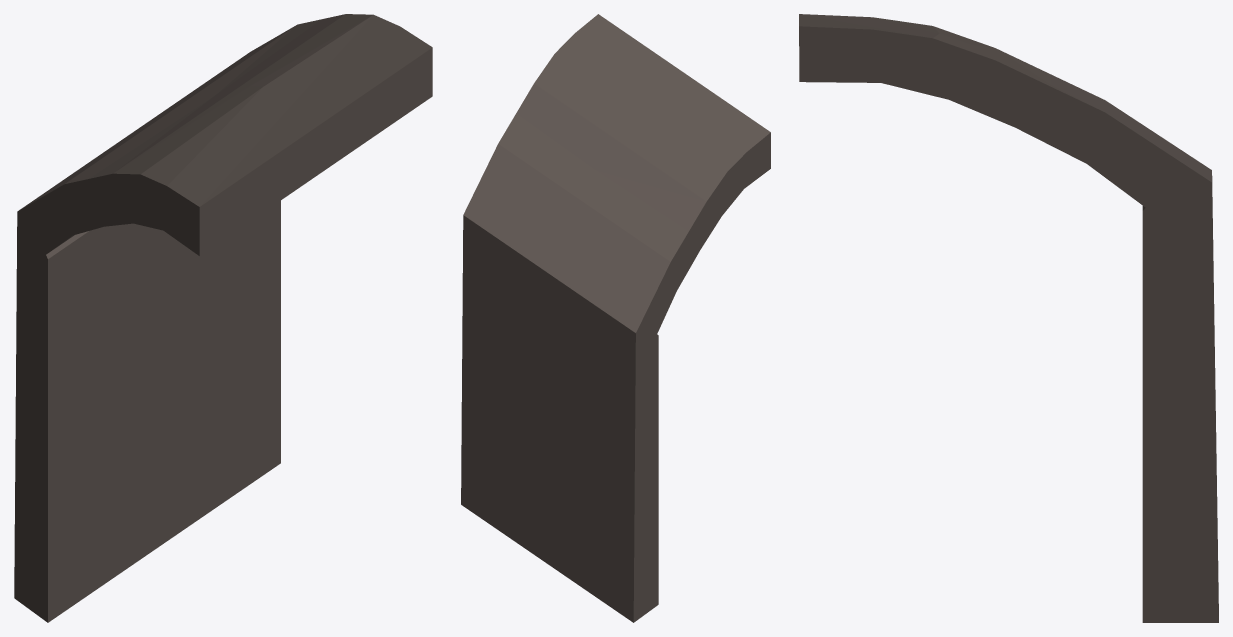
Rendered from MCastle_TunnelWalls_02.FBX.
The picture shows the model from 3 angles, left to right: view 1: azimuth 30°, elevation 25°; view 2: azimuth 150°, elevation 25°; view 3: azimuth 270°, elevation 25°; orthographic projection. The views are drawn at different scales.
Visible parts, largest first — view 1: MCastle_TunnelWalls_02_LOD0; view 2: MCastle_TunnelWalls_02_LOD0; view 3: MCastle_TunnelWalls_02_LOD0.
Part boxes in pixels (x1=…): MCastle_TunnelWalls_02_LOD0: x1=14, y1=14, x2=432, y2=622; MCastle_TunnelWalls_02_LOD0: x1=461, y1=14, x2=770, y2=622; MCastle_TunnelWalls_02_LOD0: x1=799, y1=14, x2=1218, y2=622.
Bounding box in the file's own units: 1.99 × 5.15 × 2.75.
